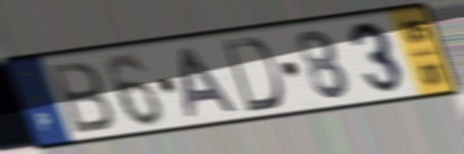3: (346, 18, 411, 98)
6: (104, 50, 166, 130)
8: (297, 29, 350, 101)
A: (178, 45, 241, 120)
B: (45, 58, 118, 136)
D: (219, 35, 286, 115)
